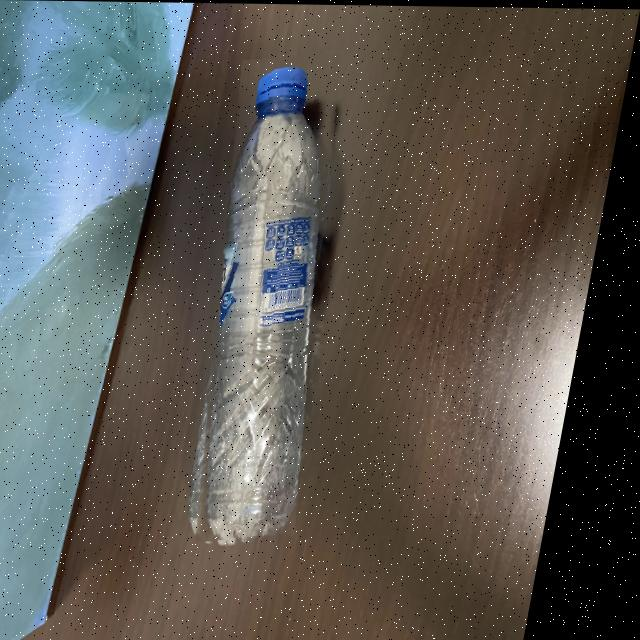plasticbottlecap: (184, 53, 375, 541)
